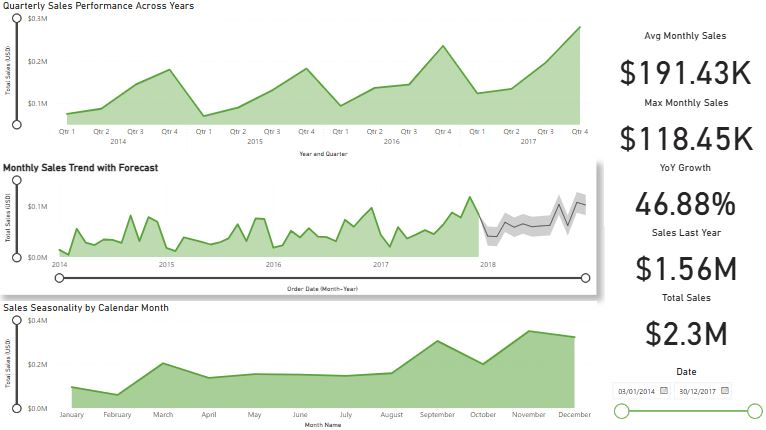

The page's visual inventory and layout, read from the dashboard file:
{"tool":"powerbi","page":{"name":"Sales Trend Forecasting","canvas":[1280,720],"ordinal":0},"visuals":[{"type":"lineChart","title":"Monthly Sales Trend with Forecast","fields":{"Category":["Data_Superstore.Order Date.Variation.Date Hierarchy.Year","Data_Superstore.Order Date.Variation.Date Hierarchy.Month"],"Y":["Sum(Data_Superstore.Sales)"]},"box":[0,270.2,994.1,223.2],"z":1000},{"type":"lineChart","title":"Quarterly Sales Performance Across Years","fields":{"Y":["Sum(Data_Superstore.Sales)"],"Category":["Data_Superstore.Order Date.Variation.Date Hierarchy.Year","Data_Superstore.Order Date.Variation.Date Hierarchy.Quarter"]},"box":[0,0,994.3,268.6],"z":2000},{"type":"lineChart","title":"Sales Seasonality by Calendar Month","fields":{"Category":["Data_Superstore.Order Date.Variation.Date Hierarchy.Month"],"Y":["Sum(Data_Superstore.Sales)"]},"box":[0,503.1,994.1,217.2],"z":3000},{"type":"card","title":"Avg Monthly Sales","fields":{"Values":["Measure Table.Average Monthly Sales"]},"box":[1007.4,50.7,271.4,111],"z":4000},{"type":"card","title":"Max Monthly Sales","fields":{"Values":["Measure Table.Max Monthly Sales"]},"box":[1008.6,161.7,271.4,108.6],"z":5000},{"type":"card","title":"Sales Last Year","fields":{"Values":["Measure Table.Sales Last Year"]},"box":[1008.6,378.8,271.4,108.6],"z":6000},{"type":"card","title":"Total Sales","fields":{"Values":["Sum(Data_Superstore.Sales)"]},"box":[1008.6,487.4,271.4,108.6],"z":7000},{"type":"slicer","title":"Date","fields":{"Values":["Data_Superstore.Order Date"]},"box":[1008.6,610.6,271.7,109.8],"z":8000},{"type":"card","title":"YoY Growth","fields":{"Values":["Measure Table.growth vs LY"]},"box":[1007.4,270.2,271.4,108.6],"z":9000}]}

Visuals, with their boxes in screenshot pixels (x1, y1, x2, y2), scaled from the page's 1280x720 canvas onto the 766x430 screenshot:
"Monthly Sales Trend with Forecast" lineChart: l=0, t=161, r=595, b=295
"Quarterly Sales Performance Across Years" lineChart: l=0, t=0, r=595, b=160
"Sales Seasonality by Calendar Month" lineChart: l=0, t=300, r=595, b=429
"Avg Monthly Sales" card: l=603, t=30, r=765, b=97
"Max Monthly Sales" card: l=604, t=97, r=765, b=161
"Sales Last Year" card: l=604, t=226, r=765, b=291
"Total Sales" card: l=604, t=291, r=765, b=356
"Date" slicer: l=604, t=365, r=765, b=429
"YoY Growth" card: l=603, t=161, r=765, b=226
